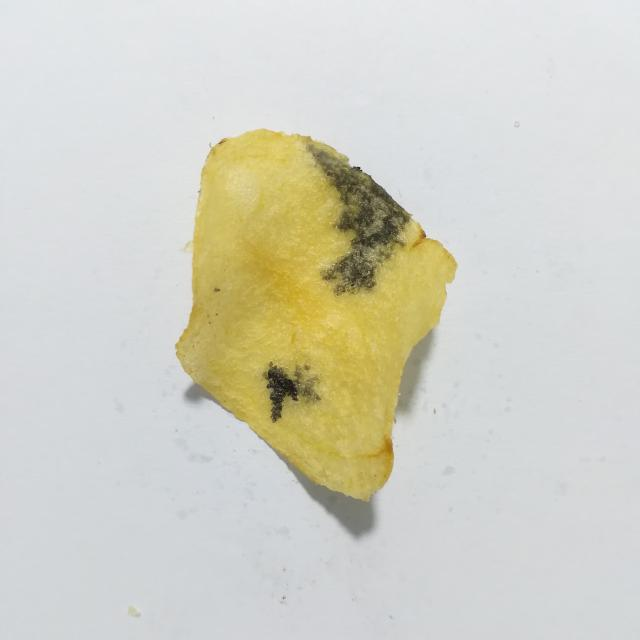chip: (176, 129, 457, 500)
damaged: (306, 144, 410, 294), (266, 363, 298, 422)
semi-damaged: (294, 365, 320, 403)
